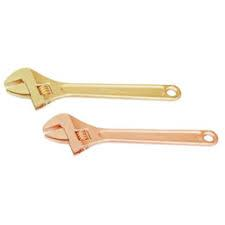wrench: (1, 65, 182, 110), (41, 111, 218, 157)
